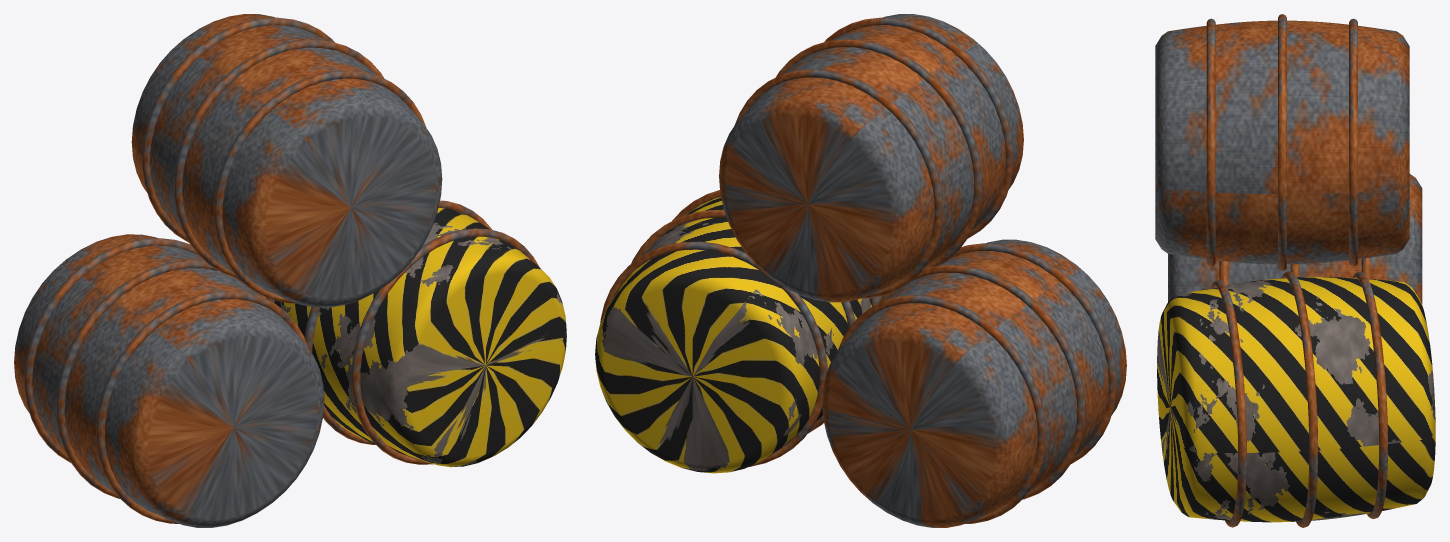
Rendered from barrel_stack.gltf.
The picture shows the model from 3 angles, left to right: view 1: azimuth 30°, elevation 25°; view 2: azimuth 150°, elevation 25°; view 3: azimuth 270°, elevation 25°; orthographic projection.
Parts seen in each view (by area): view 1: barrel_stack; view 2: barrel_stack; view 3: barrel_stack.
Part boxes in pixels (x1,y1,x2,y2): barrel_stack: (14,14,566,527); barrel_stack: (595,14,1126,527); barrel_stack: (1155,14,1435,527).
Bounding box in the file's own units: 2.1 × 1.86 × 1.1.
2 materials, 2 textured.
